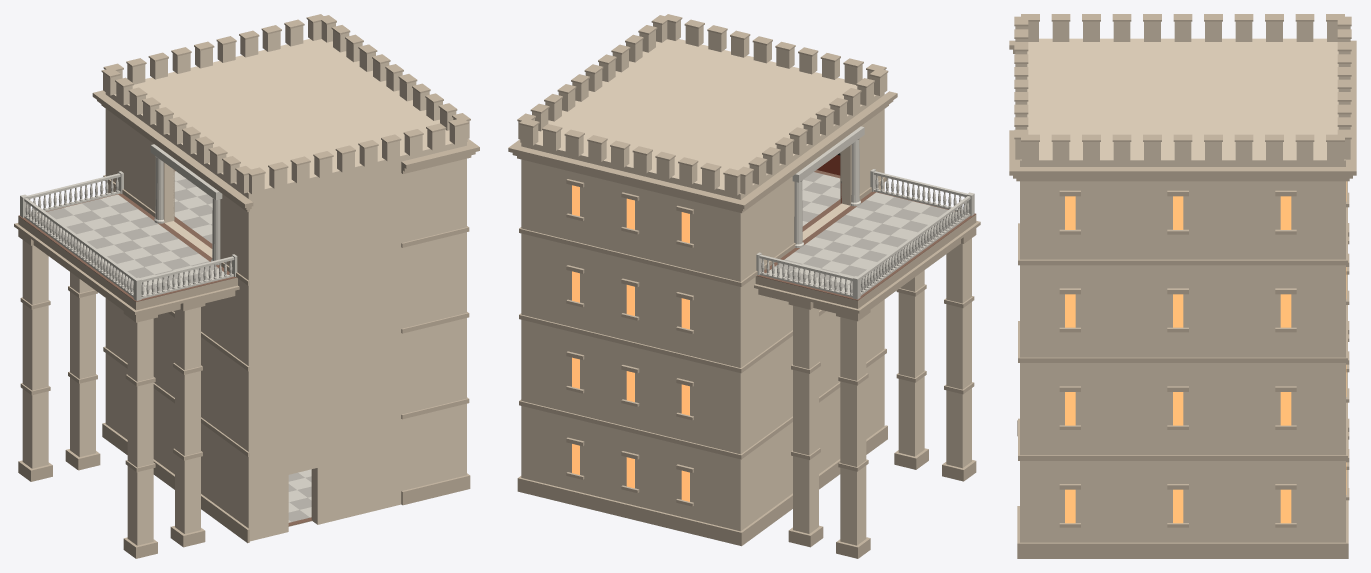
File: tower_bldg.glb
3 views of the same model, side by side, from view 1: azimuth 30°, elevation 25°; view 2: azimuth 150°, elevation 25°; view 3: azimuth 270°, elevation 25° (orthographic). The views are drawn at different scales.
Parts seen in each view (by area): view 1: tower_tex_sandstone, tower_tex_sandstone_dark, tower_marble, tower_marble_grey, tower_marble_dark; view 2: tower_tex_sandstone, tower_tex_sandstone_dark, tower_marble, tower_marble_grey, tower_window_glow, tower_marble_dark; view 3: tower_tex_sandstone, tower_tex_sandstone_dark, tower_window_glow.
Part boxes in pixels (box(x1,y1,x2,y2)): tower_tex_sandstone: box(22, 20, 469, 545); tower_tex_sandstone_dark: box(14, 14, 479, 558); tower_marble: box(20, 144, 311, 522); tower_marble_grey: box(40, 179, 311, 521); tower_marble_dark: box(18, 170, 312, 525); tower_tex_sandstone: box(518, 20, 971, 545); tower_tex_sandstone_dark: box(508, 14, 980, 558); tower_marble: box(756, 126, 974, 299); tower_marble_grey: box(775, 172, 954, 290); tower_window_glow: box(572, 185, 689, 501); tower_marble_dark: box(757, 170, 975, 300); tower_tex_sandstone: box(1015, 21, 1350, 542); tower_tex_sandstone_dark: box(1009, 14, 1356, 558); tower_window_glow: box(1065, 181, 1346, 523).
Bounding box in the file's own units: 18.2 × 19.33 × 14.5.
